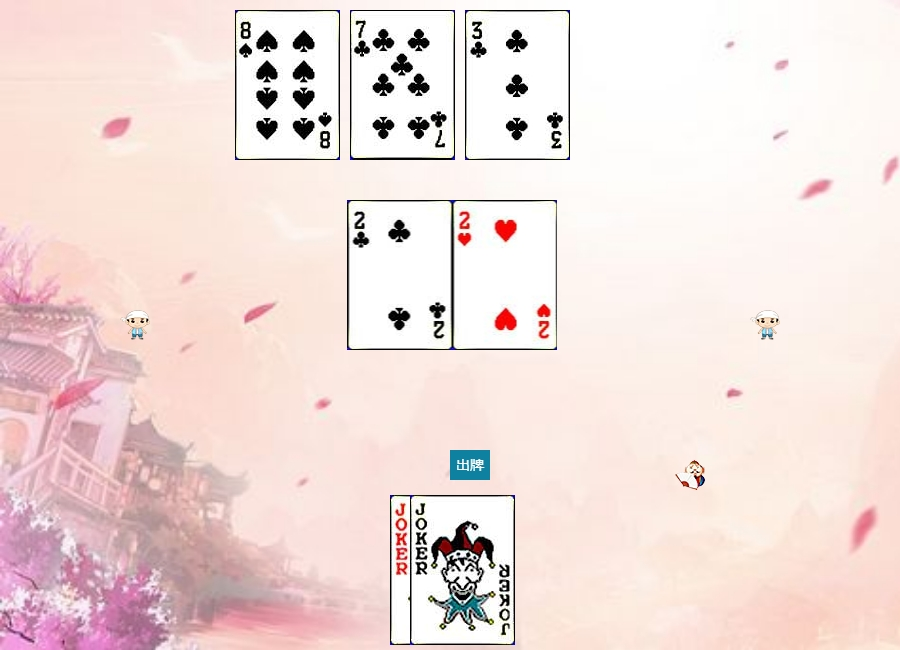15~2: (348, 200, 453, 350)
15~3: (453, 200, 558, 350)
17~3: (410, 495, 515, 645)
18~4: (390, 495, 495, 645)
3~2: (465, 10, 570, 160)
7~2: (350, 10, 455, 160)
8~4: (235, 10, 340, 160)
